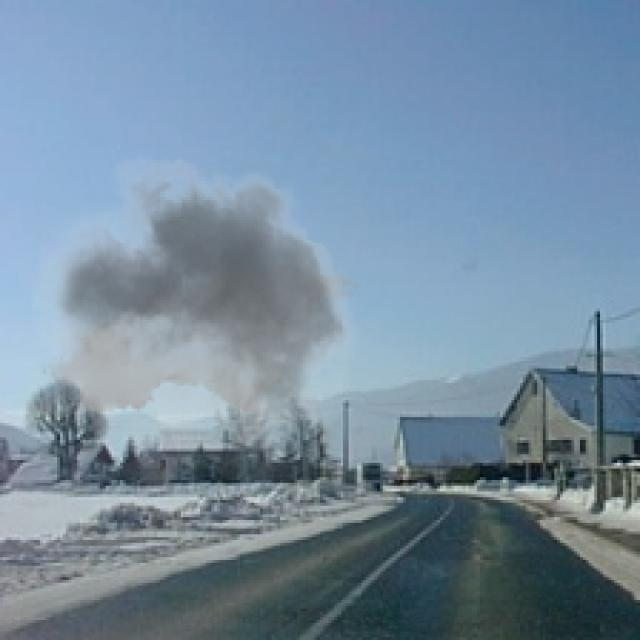smoke: (29, 140, 372, 483)
